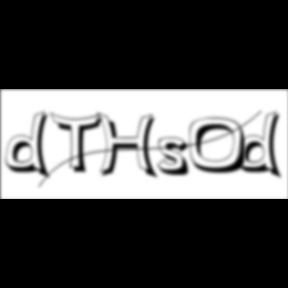H: (97, 112, 163, 182)
O: (190, 117, 254, 176)
T: (50, 112, 108, 176)
d: (6, 110, 56, 182), (238, 110, 288, 182)
s: (158, 137, 197, 179)
